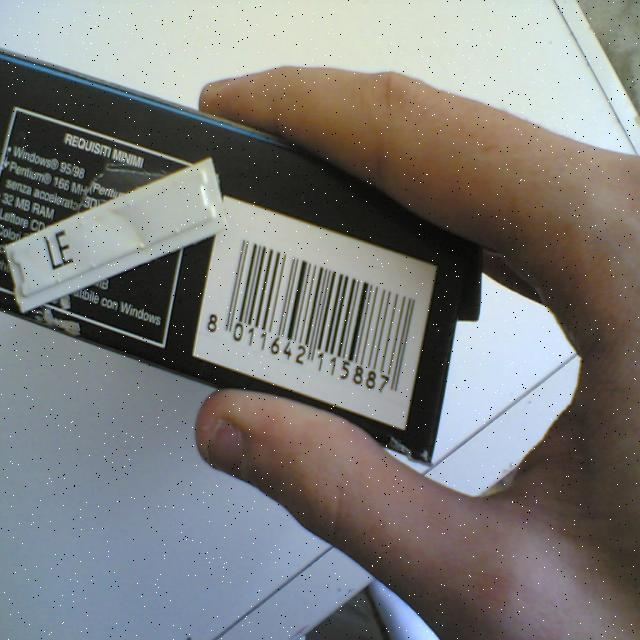barcode: (194, 197, 436, 429)
